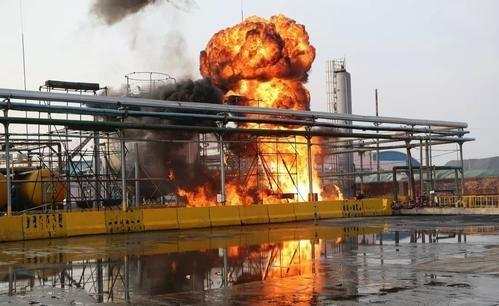fire: (157, 8, 351, 209)
